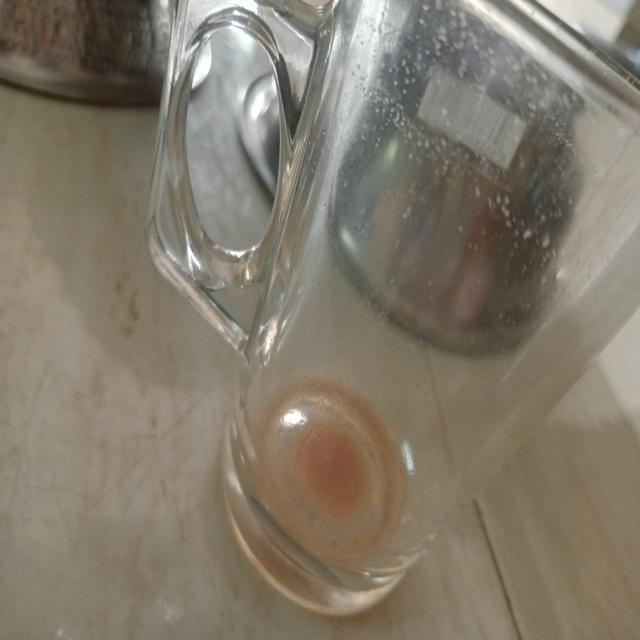glass-VX4N: (149, 0, 640, 559)
